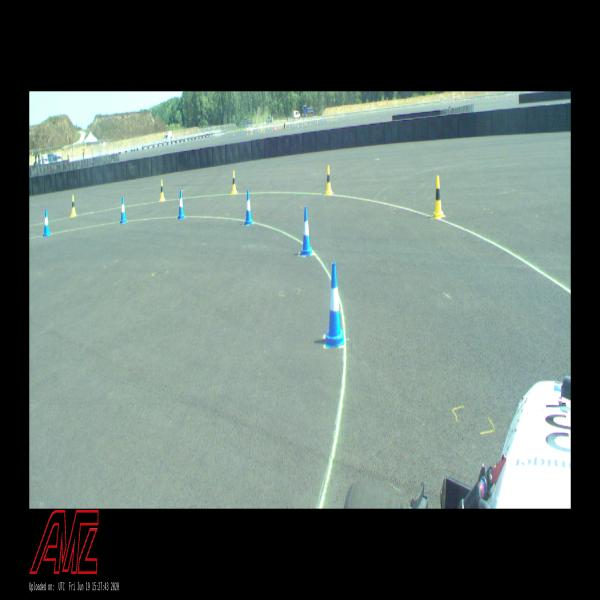blue_cone: (326, 262, 344, 346), (300, 206, 312, 255), (244, 190, 253, 225), (177, 190, 186, 219), (120, 196, 128, 223), (43, 209, 51, 236)
yellow_cone: (433, 176, 444, 217), (326, 166, 333, 195), (231, 171, 237, 194), (159, 179, 165, 201), (70, 195, 76, 216)
